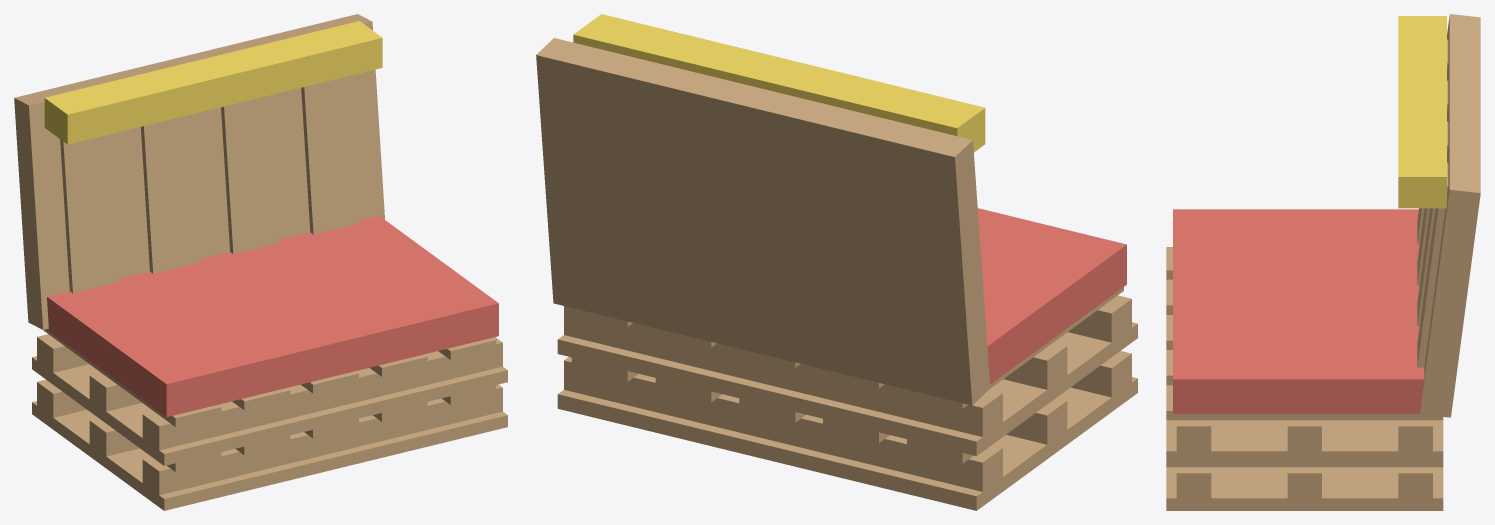
The model's file is street-food-market-and-food-trucks-pallet-seating-unit-e2fa8492__34302.glb.
3 views of the same model, side by side, from view 1: azimuth 30°, elevation 25°; view 2: azimuth 150°, elevation 25°; view 3: azimuth 270°, elevation 25° (orthographic). The views are drawn at different scales.
Visible parts, largest first — view 1: pallet-seating-unit-timber, pallet-seating-unit-scarlet, pallet-seating-unit-canary; view 2: pallet-seating-unit-timber, pallet-seating-unit-scarlet, pallet-seating-unit-canary; view 3: pallet-seating-unit-scarlet, pallet-seating-unit-timber, pallet-seating-unit-canary.
Boxes of the visible parts, bbox=[...] form: pallet-seating-unit-timber: bbox=[14, 14, 507, 510]; pallet-seating-unit-scarlet: bbox=[47, 215, 498, 417]; pallet-seating-unit-canary: bbox=[44, 21, 382, 144]; pallet-seating-unit-timber: bbox=[536, 38, 1137, 510]; pallet-seating-unit-scarlet: bbox=[977, 208, 1126, 384]; pallet-seating-unit-canary: bbox=[573, 14, 985, 152]; pallet-seating-unit-scarlet: bbox=[1173, 209, 1424, 413]; pallet-seating-unit-timber: bbox=[1166, 14, 1480, 510]; pallet-seating-unit-canary: bbox=[1398, 16, 1446, 208].
Bounding box in the file's own units: 1.2 × 1.04 × 0.9078.
